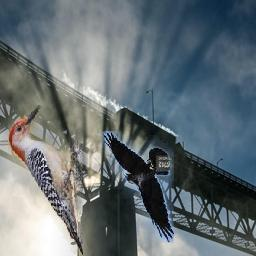Crow: (102, 131, 174, 243)
Woodpecker: (9, 105, 84, 255)
